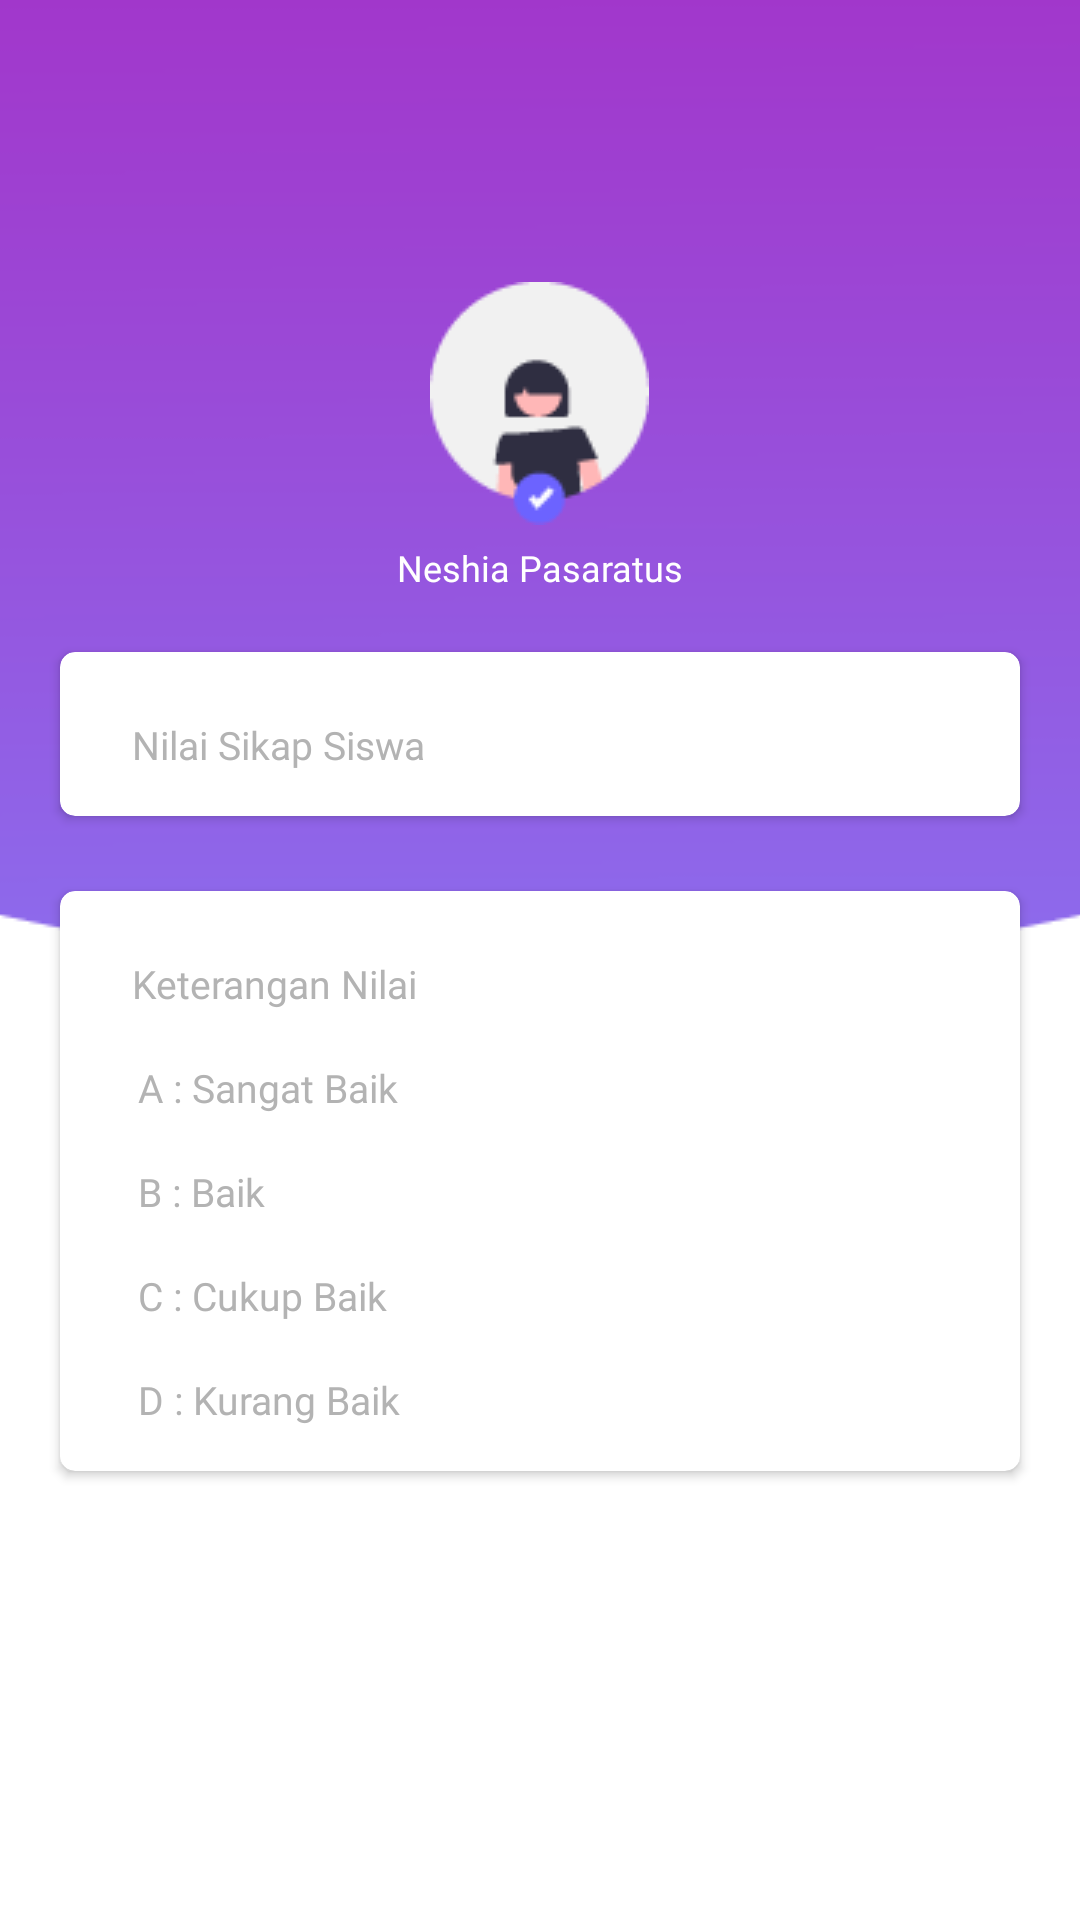

Where to tap for icons on this 1080×1920 app screen, as (x,y):
women student: (539,402)
